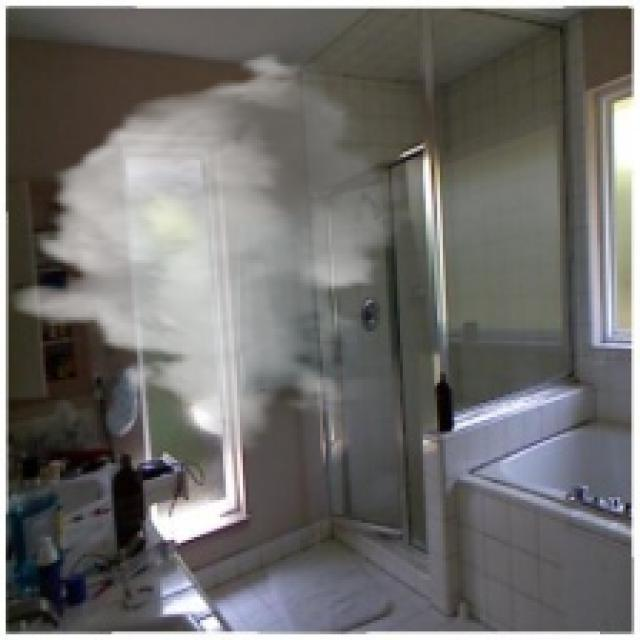Smoke: (8, 48, 426, 454)
